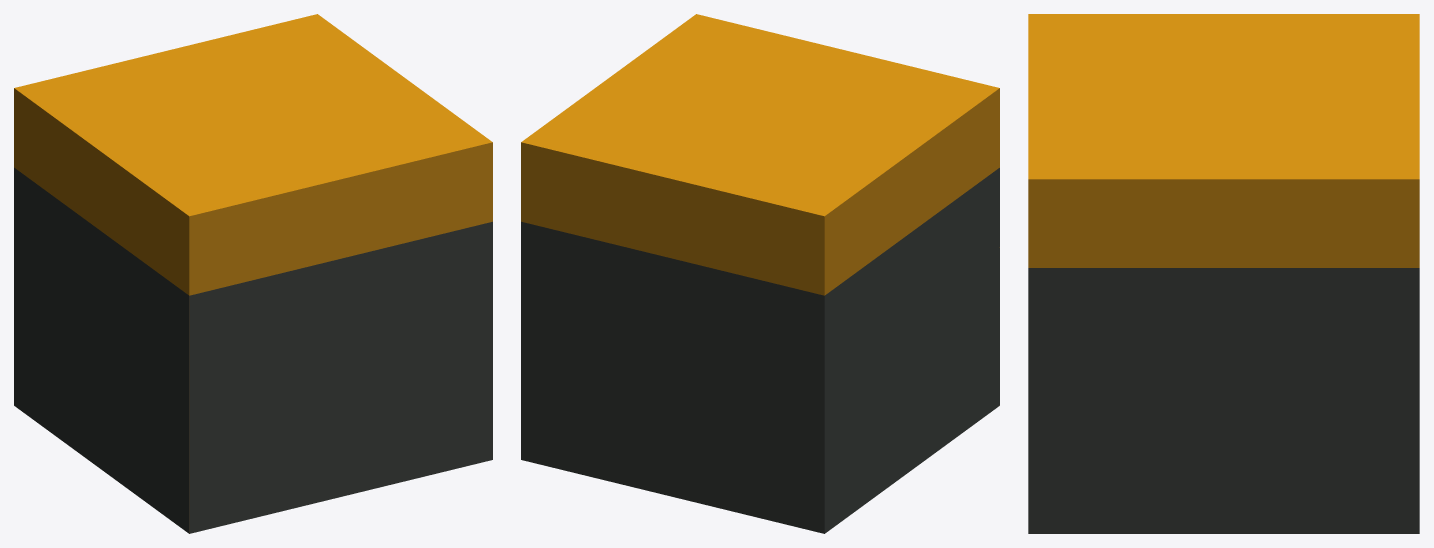
File: shadow.fbx
The picture shows the model from 3 angles, left to right: view 1: azimuth 30°, elevation 25°; view 2: azimuth 150°, elevation 25°; view 3: azimuth 270°, elevation 25°; orthographic projection. The views are drawn at different scales.
Parts seen in each view (by area): view 1: 立方体.001; view 2: 立方体.001; view 3: 立方体.001.
Boxes of the visible parts, left/top/right/bottom form: 立方体.001: left=14, top=14, right=492, bottom=533; 立方体.001: left=521, top=14, right=999, bottom=533; 立方体.001: left=1028, top=14, right=1419, bottom=533.
Bounding box in the file's own units: 99.14 × 99.14 × 99.14.
